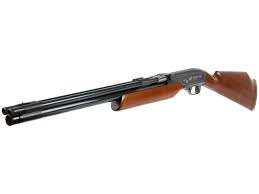shotgun: (2, 63, 258, 128)
